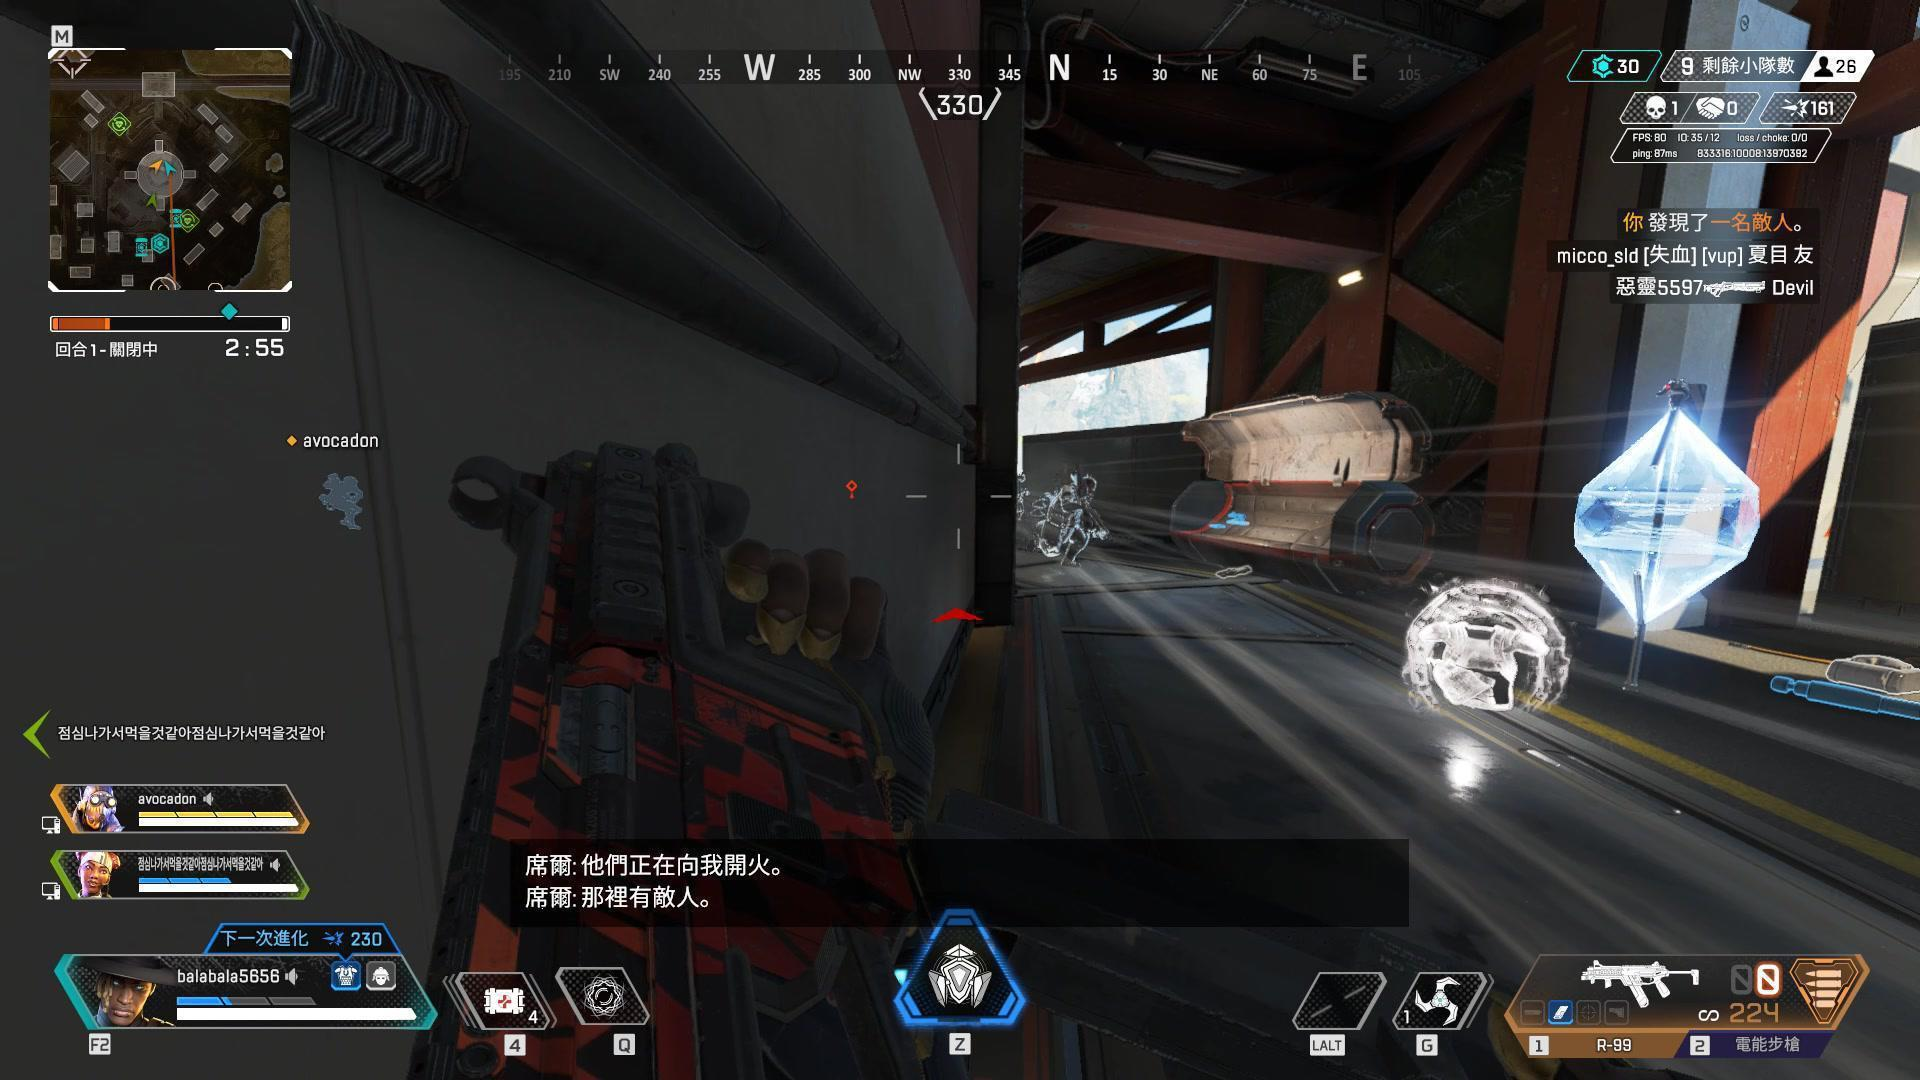avatar: (1035, 471, 1102, 571)
